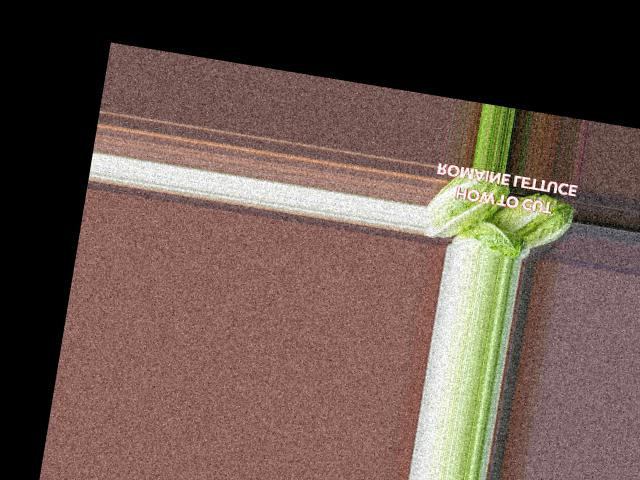lettuce: (478, 178, 580, 259)
